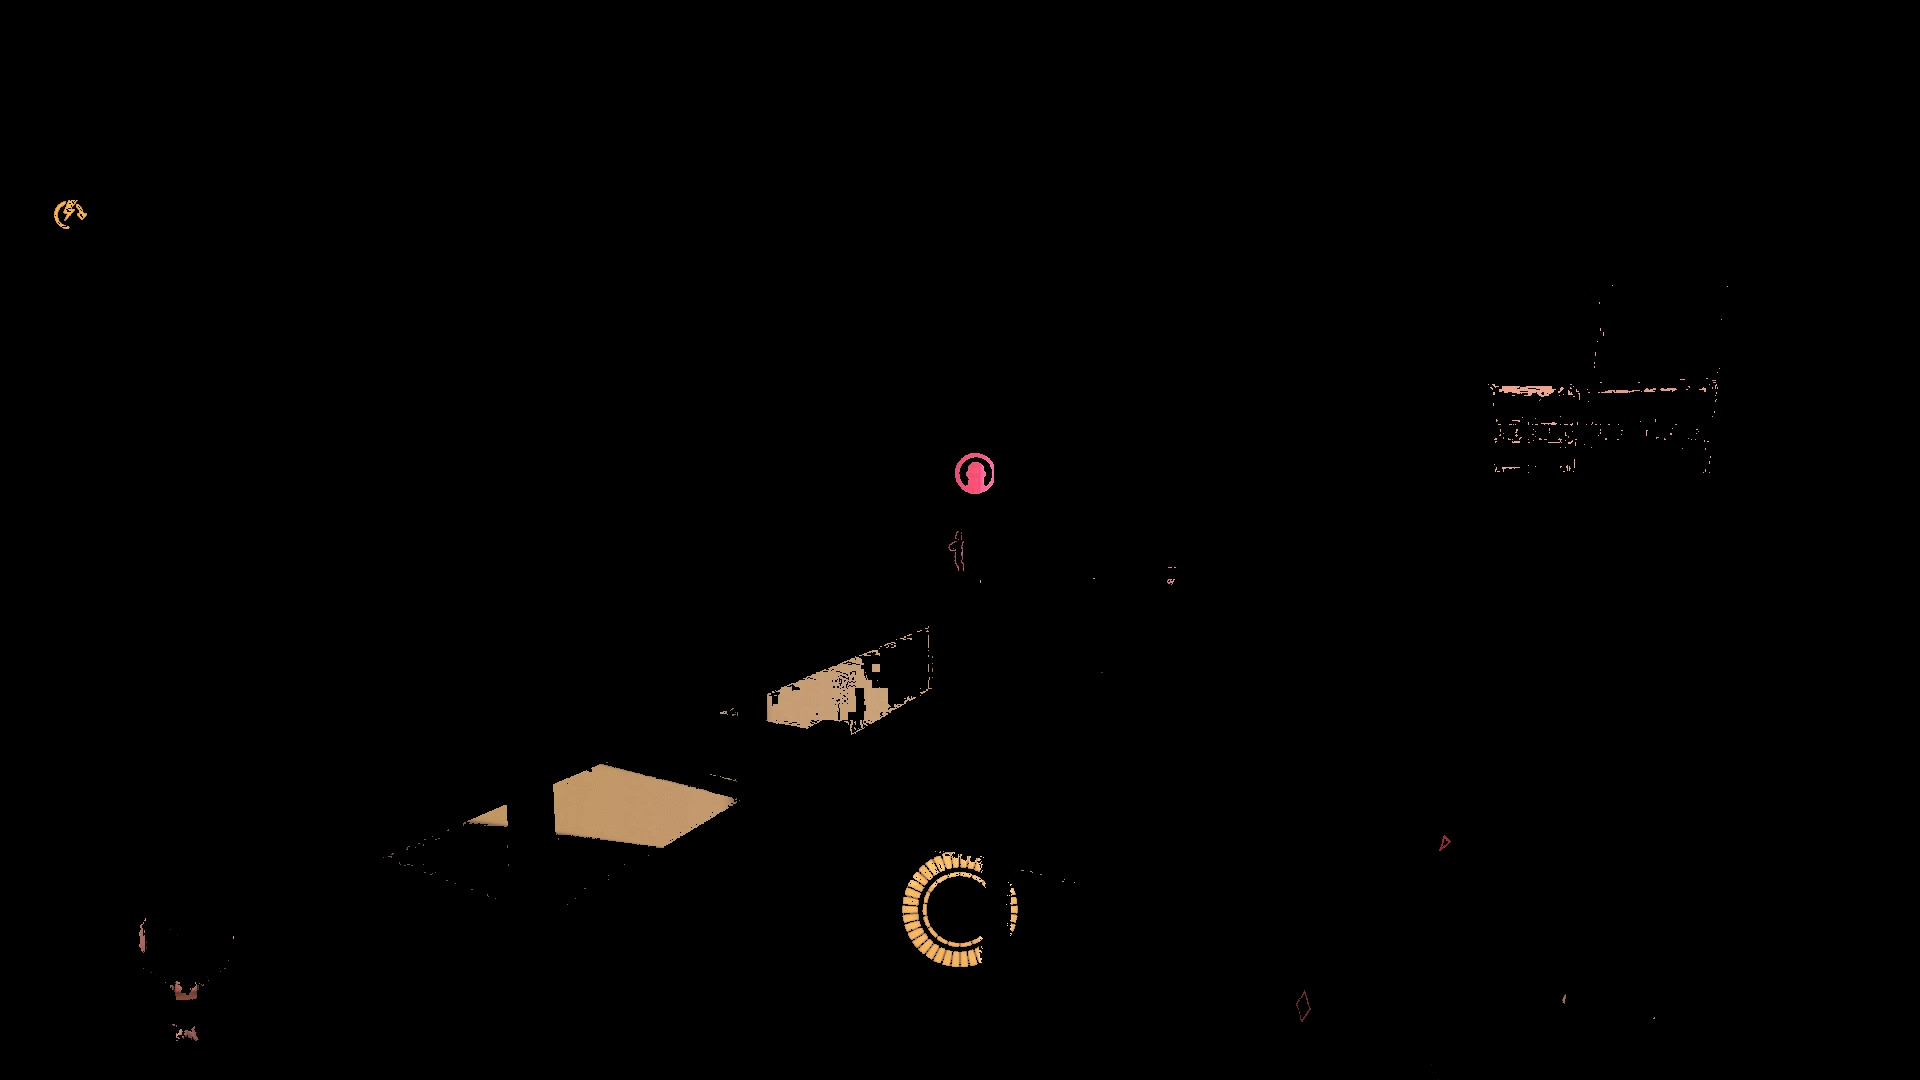widowmaker: (949, 531, 968, 576)
